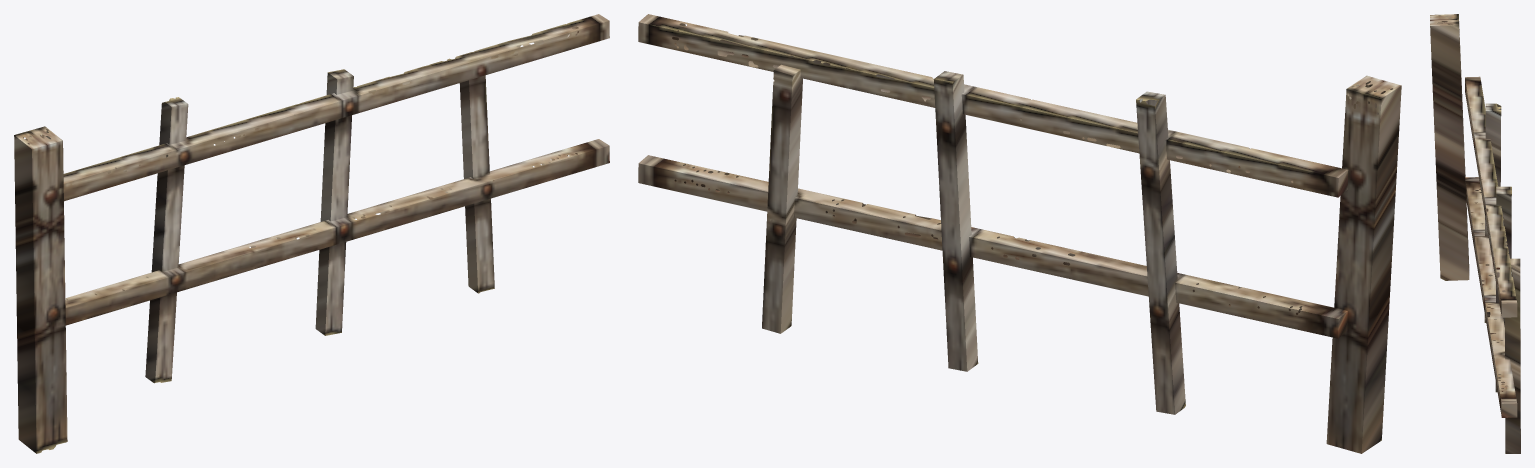
File: fence_02.glb
3 renders of one model, left to right at view 1: azimuth 30°, elevation 25°; view 2: azimuth 150°, elevation 25°; view 3: azimuth 270°, elevation 25°, orthographic. The views are drawn at different scales.
Parts seen in each view (by area): view 1: fence_02_game; view 2: fence_02_game; view 3: fence_02_game.
Part boxes in pixels (<box>): fence_02_game: <box>14,14,609,453</box>; fence_02_game: <box>638,14,1401,453</box>; fence_02_game: <box>1430,14,1520,453</box>.
Size of the model in its own units: 2.61 by 1.26 by 0.4105.
1 material, 1 textured.
